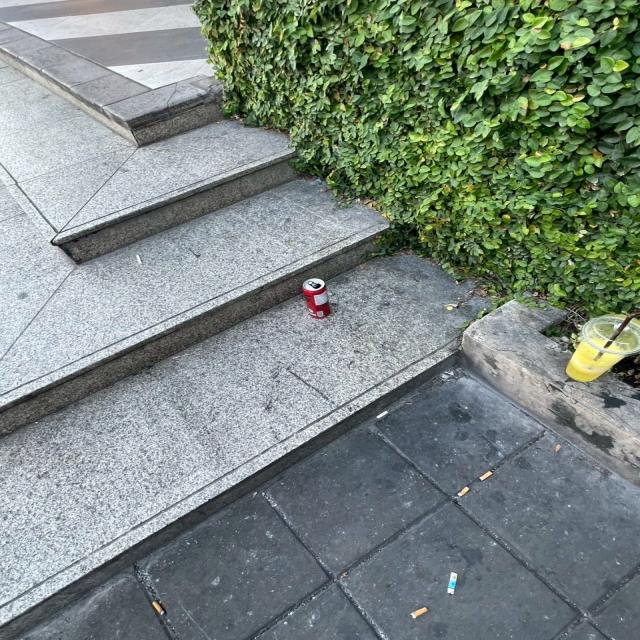can: (298, 276, 336, 318)
